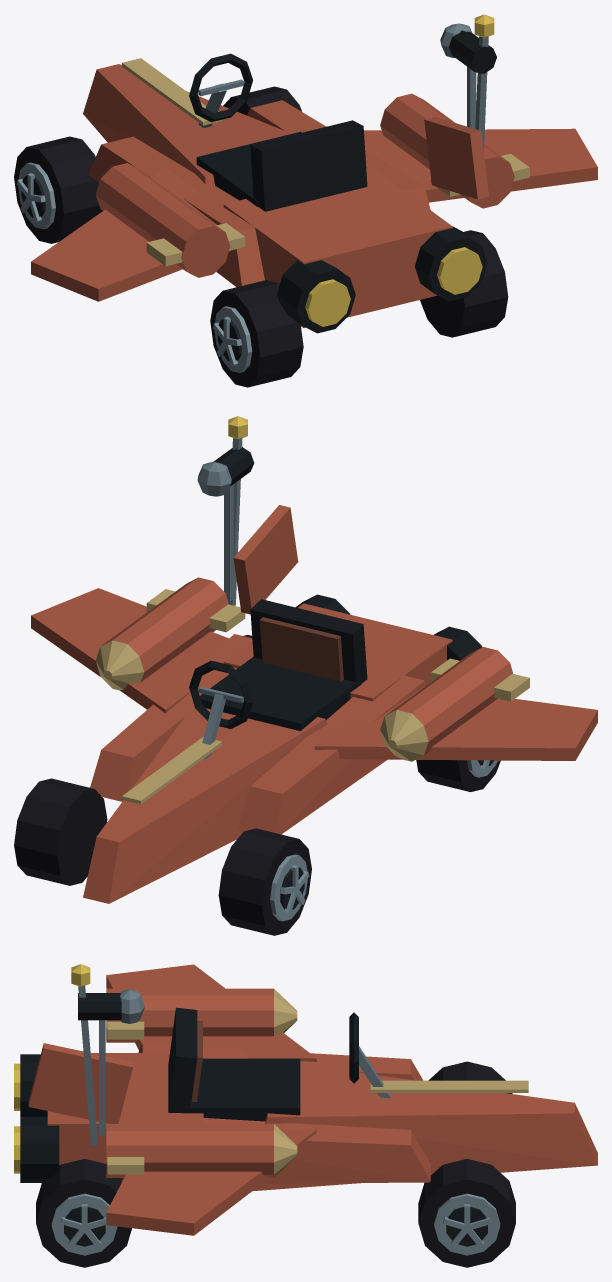
The model's file is kart.glb.
3 views of the same model, one above another, from view 1: azimuth 30°, elevation 25°; view 2: azimuth 150°, elevation 25°; view 3: azimuth 270°, elevation 25° (orthographic). The views are drawn at different scales.
Visible parts, largest first — view 1: identity-starfighter-starfighter-flight-planform, identity-starfighter-motif-rocket, identity-starfighter-driver-cockpit, wheel-rear-left, wheel-front-left, wheel-rear-right, identity-starfighter-motif-microphone, identity-starfighter-motif-antenna, wheel-front-right; view 2: identity-starfighter-starfighter-flight-planform, identity-starfighter-motif-rocket, identity-starfighter-driver-cockpit, wheel-front-left, wheel-front-right, identity-starfighter-motif-microphone, wheel-rear-left, identity-starfighter-motif-antenna; view 3: identity-starfighter-starfighter-flight-planform, identity-starfighter-motif-rocket, identity-starfighter-driver-cockpit, wheel-front-right, wheel-rear-right, identity-starfighter-motif-microphone, identity-starfighter-motif-antenna, wheel-front-left.
Boxes of the visible parts, <box> form: identity-starfighter-starfighter-flight-planform: <box>31,58,597,333</box>; identity-starfighter-motif-rocket: <box>95,93,529,277</box>; identity-starfighter-driver-cockpit: <box>189,53,367,211</box>; wheel-rear-left: <box>210,280,303,387</box>; wheel-front-left: <box>14,136,102,243</box>; wheel-rear-right: <box>420,230,508,337</box>; identity-starfighter-motif-microphone: <box>440,23,496,128</box>; identity-starfighter-motif-antenna: <box>474,14,494,151</box>; wheel-front-right: <box>223,86,301,115</box>; identity-starfighter-starfighter-flight-planform: <box>31,505,597,903</box>; identity-starfighter-motif-rocket: <box>95,577,529,761</box>; identity-starfighter-driver-cockpit: <box>189,599,367,759</box>; wheel-front-left: <box>218,828,311,935</box>; wheel-front-right: <box>14,778,107,885</box>; identity-starfighter-motif-microphone: <box>197,447,254,601</box>; wheel-rear-left: <box>416,760,500,791</box>; identity-starfighter-motif-antenna: <box>228,416,247,605</box>; identity-starfighter-starfighter-flight-planform: <box>14,964,597,1235</box>; identity-starfighter-motif-rocket: <box>106,988,297,1177</box>; identity-starfighter-driver-cockpit: <box>168,1007,390,1121</box>; wheel-front-right: <box>418,1159,515,1267</box>; wheel-rear-right: <box>36,1159,131,1267</box>; identity-starfighter-motif-microphone: <box>78,989,144,1135</box>; identity-starfighter-motif-antenna: <box>71,964,97,1145</box>; wheel-front-left: <box>428,1061,512,1093</box>.
Bounding box in the file's own units: 3.14 × 1.72 × 2.99.
